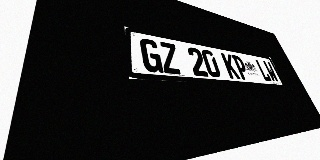0: (200, 49, 222, 78)
2: (186, 46, 209, 77)
G: (139, 38, 164, 73)
K: (220, 53, 241, 79)
L: (254, 59, 272, 82)
P: (231, 55, 251, 80)
W: (262, 60, 280, 82)
Z: (158, 41, 182, 75)
